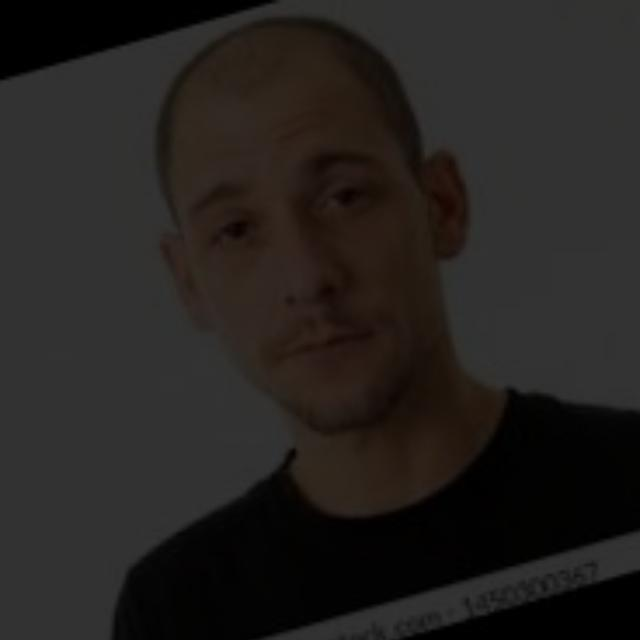Natural: (135, 79, 470, 425)
